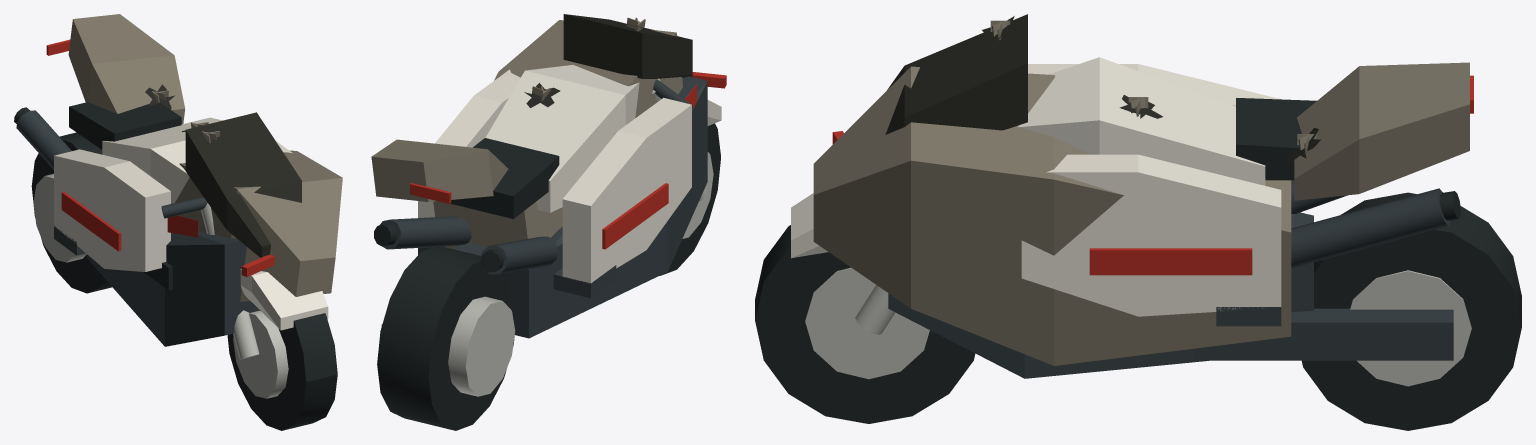
3 views of the same model, side by side, from view 1: azimuth 30°, elevation 25°; view 2: azimuth 150°, elevation 25°; view 3: azimuth 270°, elevation 25° (orthographic). The views are drawn at different scales.
Visible parts, largest first — view 1: motorcycle-damaged-fleet-damage-metal, motorcycle-damaged-fleet-armor, motorcycle-damaged-fleet-machine, motorcycle-damaged-fleet-damage-charred, front-wheel-fleet-rubber, motorcycle-damaged-fleet-rubber, front-wheel-fleet-edge, steering-fleet-armor, motorcycle-damaged-fleet-red, rear-wheel-fleet-rubber, rear-wheel-fleet-edge, steering-fleet-edge (+1 smaller); view 2: motorcycle-damaged-fleet-armor, rear-wheel-fleet-rubber, motorcycle-damaged-fleet-machine, motorcycle-damaged-fleet-damage-metal, motorcycle-damaged-fleet-damage-charred, rear-wheel-fleet-edge, motorcycle-damaged-fleet-rubber, motorcycle-damaged-fleet-red, front-wheel-fleet-rubber, front-wheel-fleet-edge, steering-fleet-machine; view 3: motorcycle-damaged-fleet-damage-metal, motorcycle-damaged-fleet-armor, motorcycle-damaged-fleet-machine, rear-wheel-fleet-rubber, front-wheel-fleet-rubber, motorcycle-damaged-fleet-damage-charred, front-wheel-fleet-edge, rear-wheel-fleet-edge, motorcycle-damaged-fleet-rubber, motorcycle-damaged-fleet-red, steering-fleet-armor, steering-fleet-edge.
Part boxes in pixels (bbox=[...]): motorcycle-damaged-fleet-damage-metal: bbox=[68, 14, 342, 301]; motorcycle-damaged-fleet-armor: bbox=[54, 117, 292, 271]; motorcycle-damaged-fleet-machine: bbox=[16, 110, 259, 346]; motorcycle-damaged-fleet-damage-charred: bbox=[145, 84, 301, 257]; front-wheel-fleet-rubber: bbox=[227, 310, 337, 430]; motorcycle-damaged-fleet-rubber: bbox=[14, 102, 181, 290]; front-wheel-fleet-edge: bbox=[233, 310, 288, 398]; steering-fleet-armor: bbox=[240, 269, 328, 330]; motorcycle-damaged-fleet-red: bbox=[46, 39, 274, 276]; rear-wheel-fleet-rubber: bbox=[31, 132, 111, 293]; rear-wheel-fleet-edge: bbox=[33, 174, 86, 262]; steering-fleet-edge: bbox=[201, 203, 259, 359]; motorcycle-damaged-fleet-armor: bbox=[418, 65, 691, 283]; rear-wheel-fleet-rubber: bbox=[377, 245, 514, 430]; motorcycle-damaged-fleet-machine: bbox=[380, 76, 707, 338]; motorcycle-damaged-fleet-damage-metal: bbox=[371, 17, 682, 249]; motorcycle-damaged-fleet-damage-charred: bbox=[524, 14, 692, 107]; rear-wheel-fleet-edge: bbox=[448, 296, 515, 396]; motorcycle-damaged-fleet-rubber: bbox=[374, 138, 559, 272]; motorcycle-damaged-fleet-red: bbox=[410, 72, 726, 249]; front-wheel-fleet-rubber: bbox=[659, 123, 720, 275]; front-wheel-fleet-edge: bbox=[682, 152, 713, 238]; steering-fleet-machine: bbox=[653, 79, 692, 110]; motorcycle-damaged-fleet-damage-metal: bbox=[813, 20, 1469, 365]; motorcycle-damaged-fleet-armor: bbox=[1018, 57, 1281, 316]; motorcycle-damaged-fleet-machine: bbox=[888, 180, 1453, 378]; rear-wheel-fleet-rubber: bbox=[1301, 192, 1521, 430]; front-wheel-fleet-rubber: bbox=[755, 225, 975, 423]; motorcycle-damaged-fleet-damage-charred: bbox=[885, 14, 1320, 163]; front-wheel-fleet-edge: bbox=[805, 267, 929, 379]; rear-wheel-fleet-edge: bbox=[1350, 270, 1471, 386]; motorcycle-damaged-fleet-rubber: bbox=[1236, 98, 1460, 220]; motorcycle-damaged-fleet-red: bbox=[832, 75, 1473, 275]; steering-fleet-armor: bbox=[791, 193, 827, 258]; steering-fleet-edge: bbox=[855, 285, 895, 334].
Bounding box in the file's own units: 4.4 × 6.63 × 12.37.
